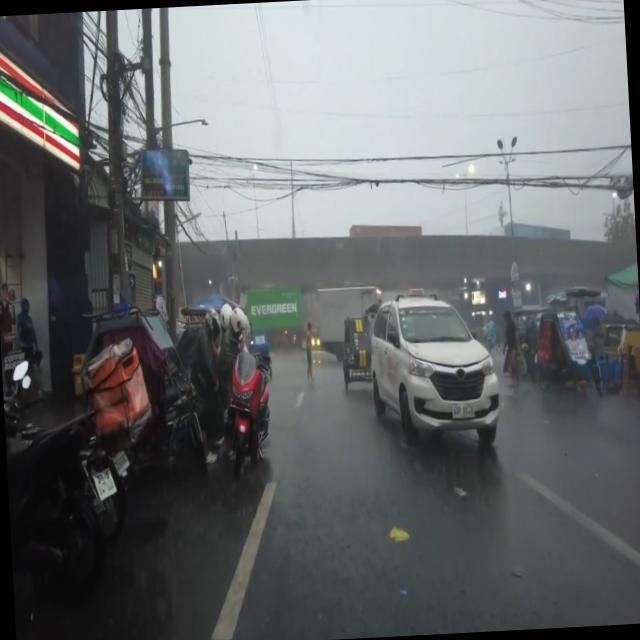full: (204, 306, 221, 340)
half: (229, 306, 251, 340)
